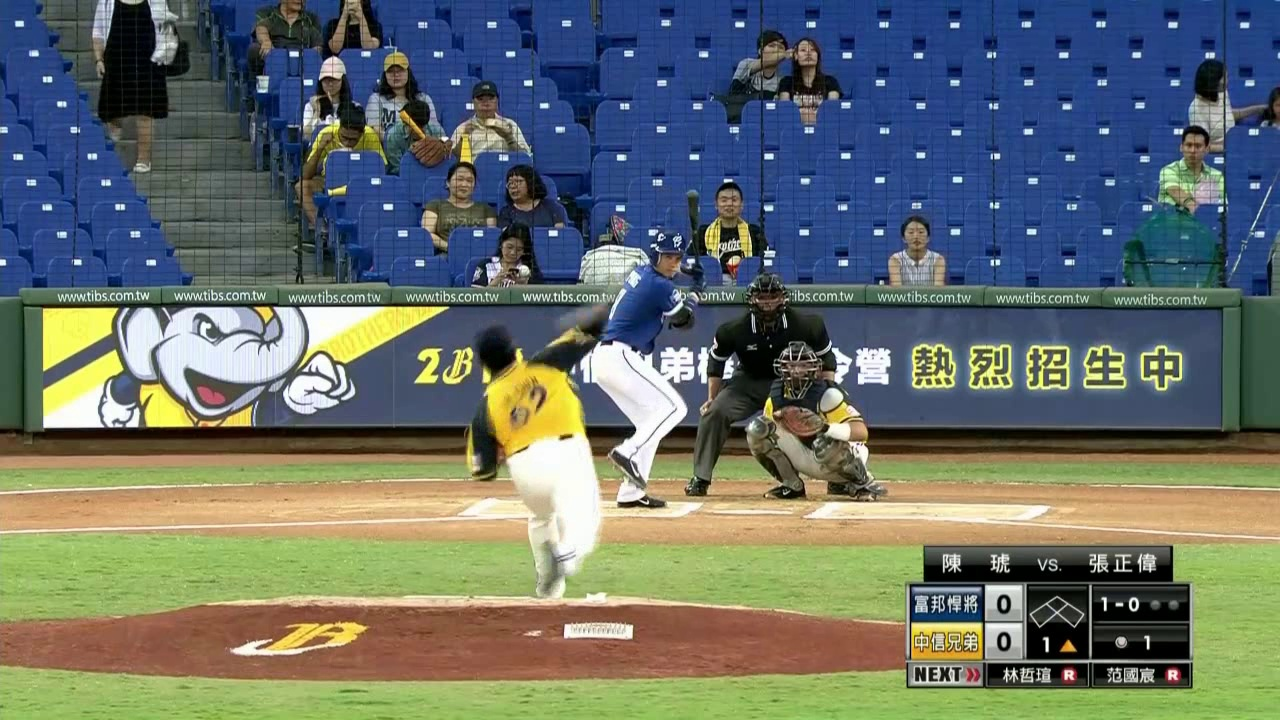ball: (563, 310, 589, 324)
base: (1028, 592, 1088, 630)
bat: (688, 189, 704, 286)
out: (1142, 593, 1187, 618)
score1: (990, 587, 1019, 619)
score2: (994, 621, 1018, 658)
session: (1033, 635, 1084, 659)
strikeball: (1095, 594, 1140, 621)
total: (1108, 631, 1166, 657)
